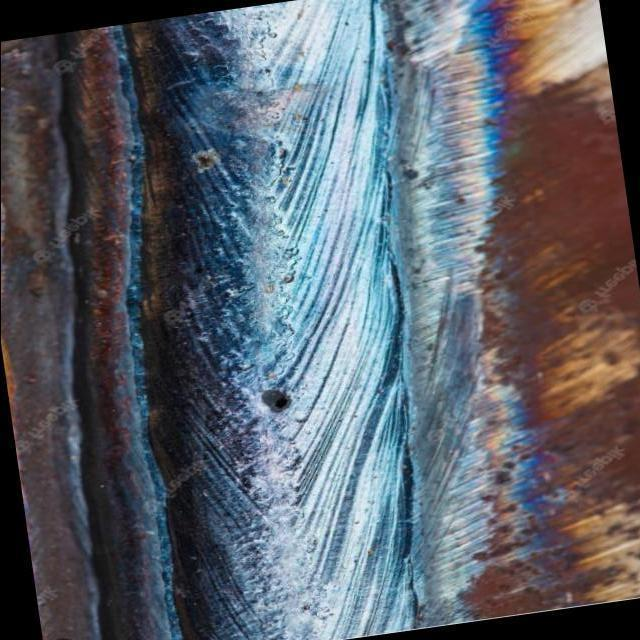defect: (253, 382, 296, 420)
